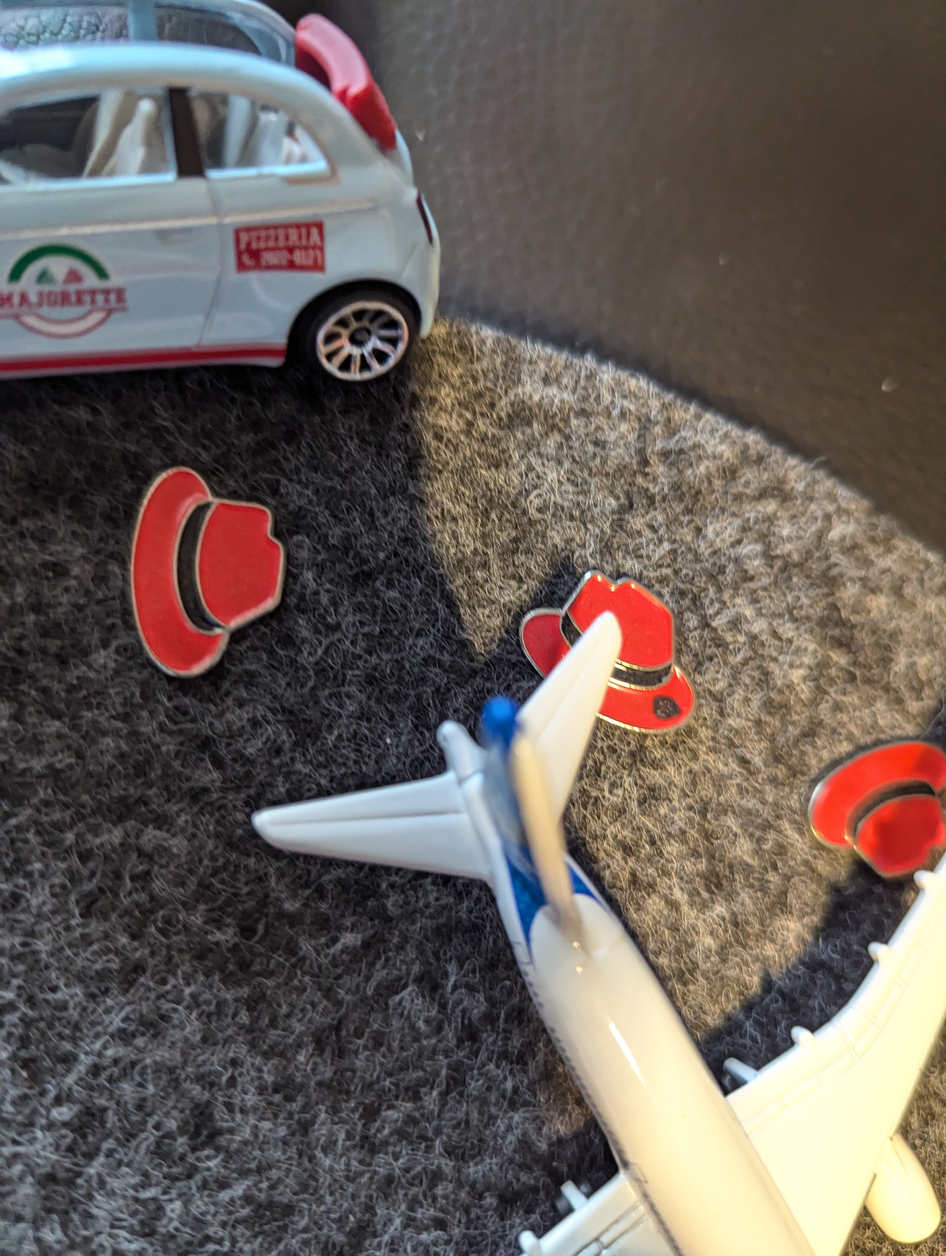Car: (0, 0, 454, 420)
Red-Hat: (101, 443, 312, 714), (498, 530, 718, 757), (784, 705, 946, 897)
Scratch: (645, 685, 690, 730)
